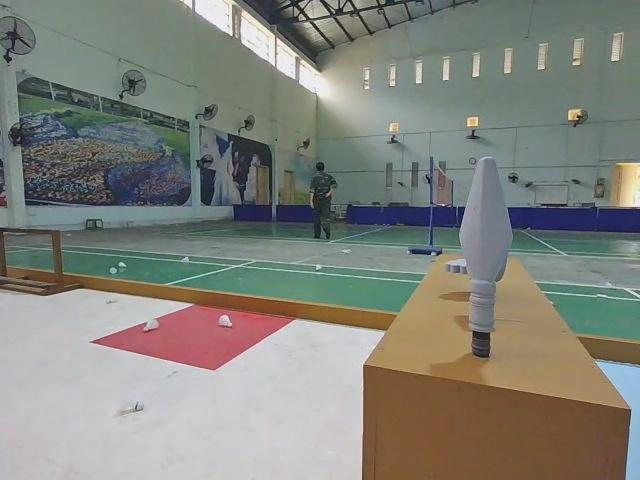Sph: (457, 159, 515, 373)
